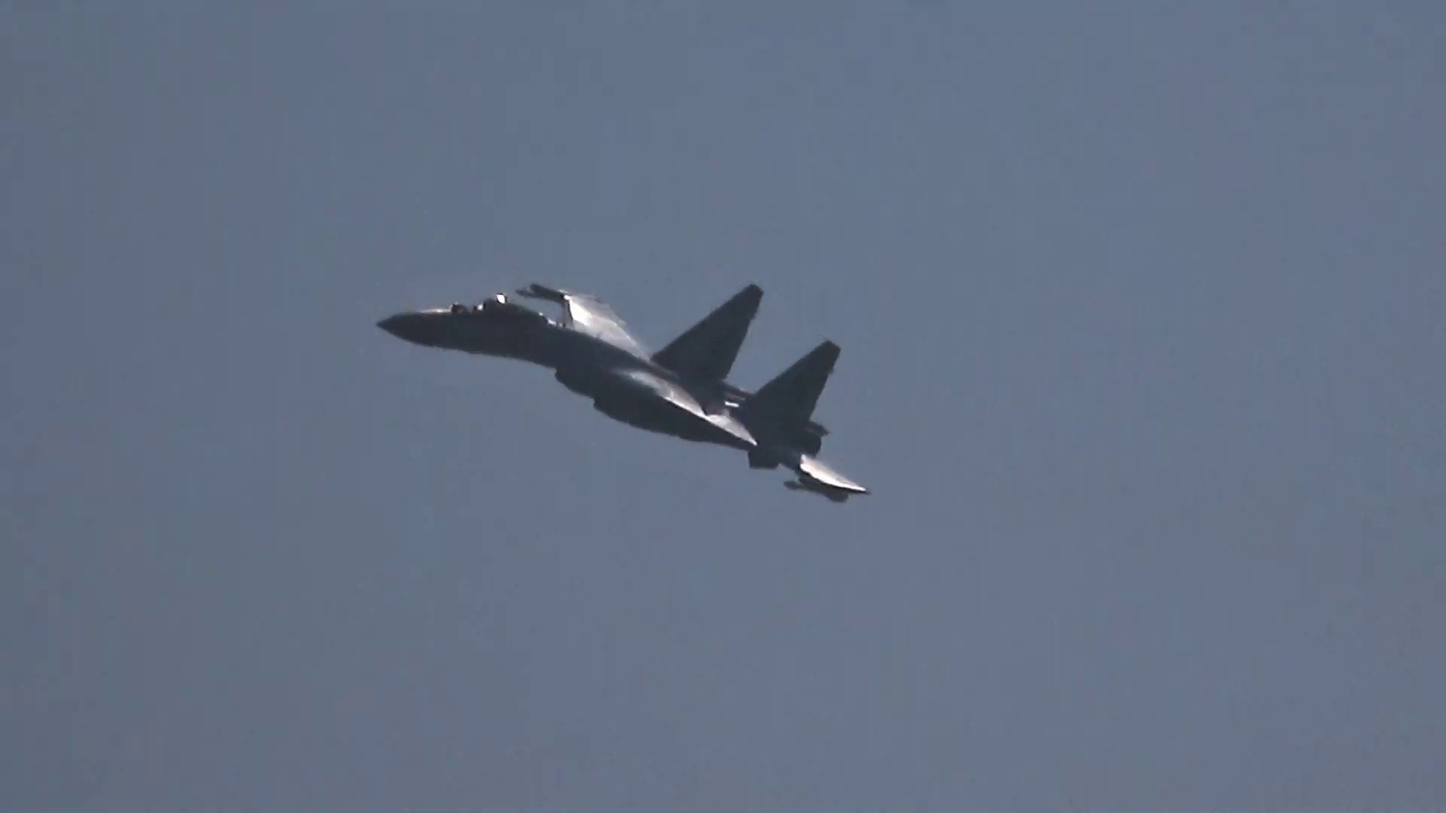Su35: (377, 282, 871, 505)
